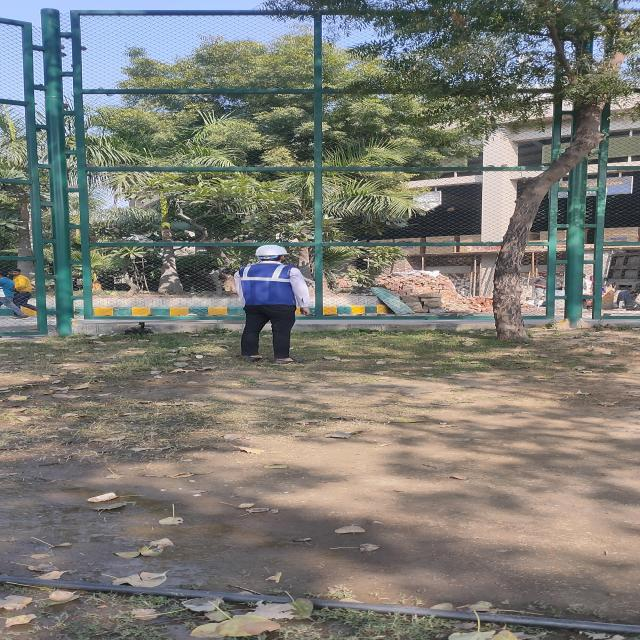safe: (234, 245, 310, 364)
unsafe: (0, 267, 38, 321)
